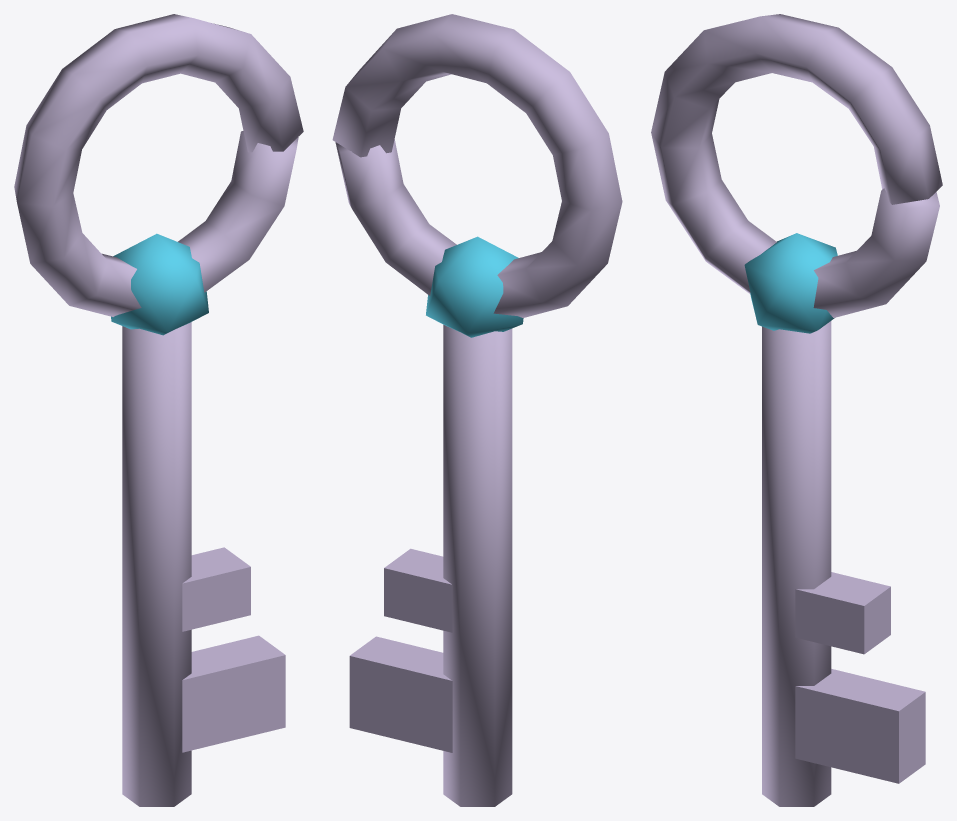
The model's file is hallowed_key.glb.
3 renders of one model, left to right at view 1: azimuth 30°, elevation 25°; view 2: azimuth 150°, elevation 25°; view 3: azimuth 330°, elevation 25°, orthographic.
Parts seen in each view (by area): view 1: hallowed_key_v0; view 2: hallowed_key_v0; view 3: hallowed_key_v0.
Boxes of the visible parts, x1,y1,x2,y2 form: hallowed_key_v0: (14,14,303,806); hallowed_key_v0: (332,14,622,806); hallowed_key_v0: (651,14,942,806).
Bounding box in the file's own units: 0.1235 × 0.3199 × 0.0374.
